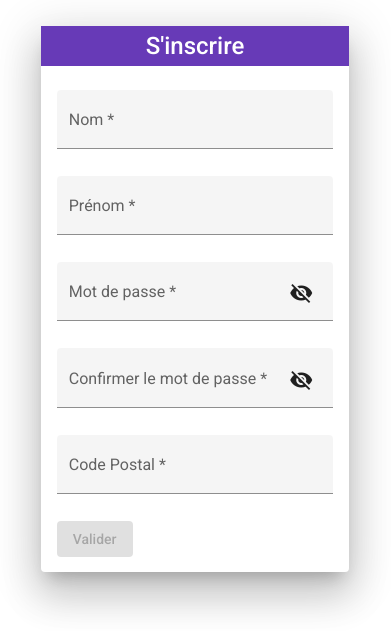
Test: Sign In Form › should show and hide the reset button based on input value and clear the input on click
Type "Max" into the field named "firstname".
click(196, 214); type("Max")  # box [69, 205, 322, 223]
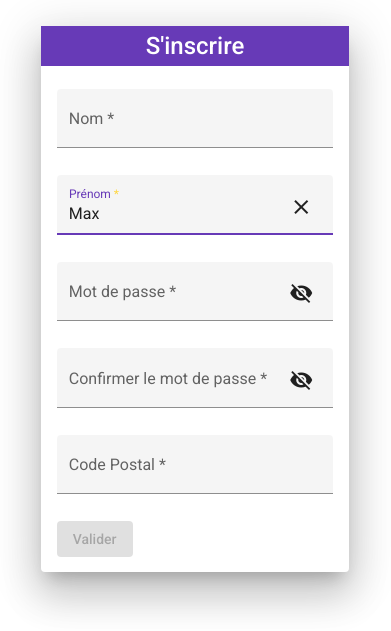
Now the button named "Clear" is shown
Click the button named "Clear".
click(301, 207)  # box [281, 187, 321, 227]
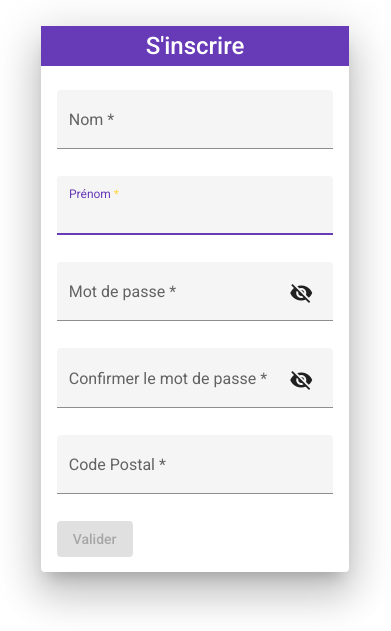
Now the button named "Clear" is gone
